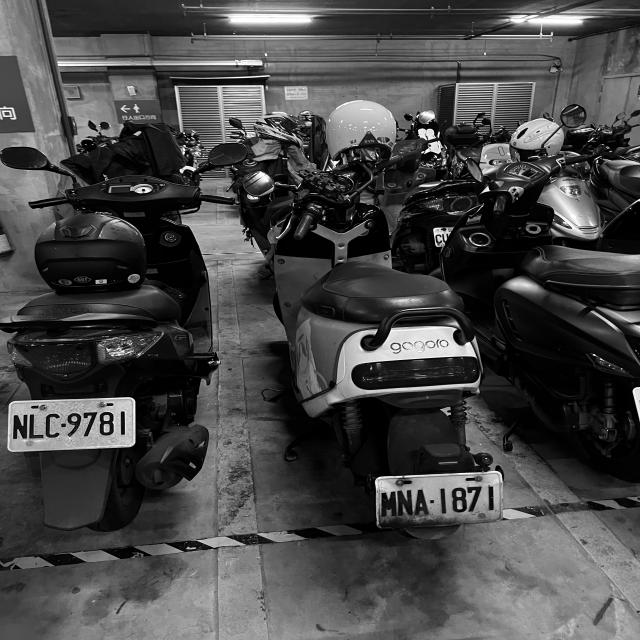-: (428, 498, 436, 507), (61, 422, 67, 428)
1: (118, 408, 130, 440), (486, 484, 498, 512), (438, 486, 448, 516)
7: (467, 486, 483, 512), (83, 412, 98, 436)
8: (98, 410, 114, 438), (452, 487, 468, 513)
9: (68, 412, 82, 438)
A: (414, 487, 430, 515)
C: (45, 412, 61, 438)
L: (28, 412, 45, 440)
M: (381, 490, 396, 516)
N: (396, 489, 416, 517), (12, 414, 28, 439)
plate: (9, 402, 136, 448), (376, 478, 498, 519)
